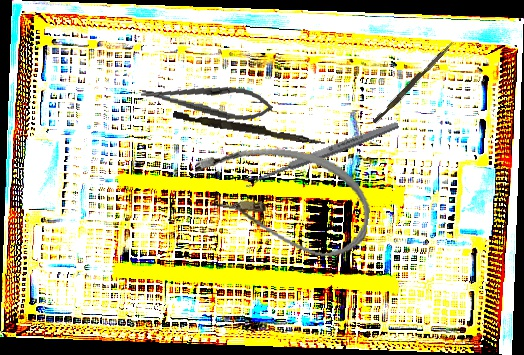Cannula: (184, 136, 378, 263)
Needle Holder: (139, 75, 275, 125)
Pusher: (372, 39, 454, 126), (172, 111, 326, 146)
Surgical Spoon: (242, 119, 401, 189)
